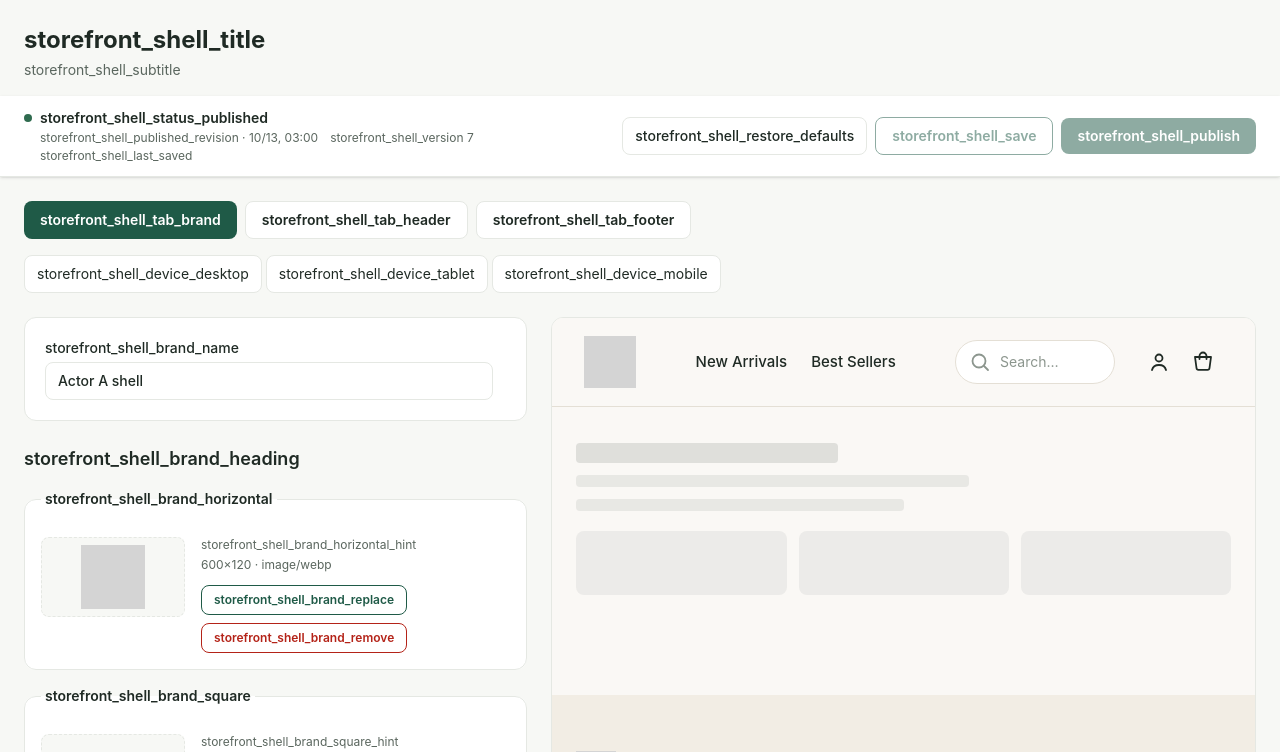
Test: StorefrontShellEditor loading and selection › keeps brand, header and footer fields in separate tab panels
Expected: the element with test id "storefront-shell-publish-bar" is shown, left=0, top=96, right=1279, bottom=177
Expected: the field labelled "storefront_shell_brand_name" is shown, left=45, top=362, right=493, bottom=400
What coordinates should you click on to do the following:
click the button "storefront_shell_tab_header"
I would click on:
 (356, 220)
Its box is left=245, top=201, right=468, bottom=239.
(page scrolled)
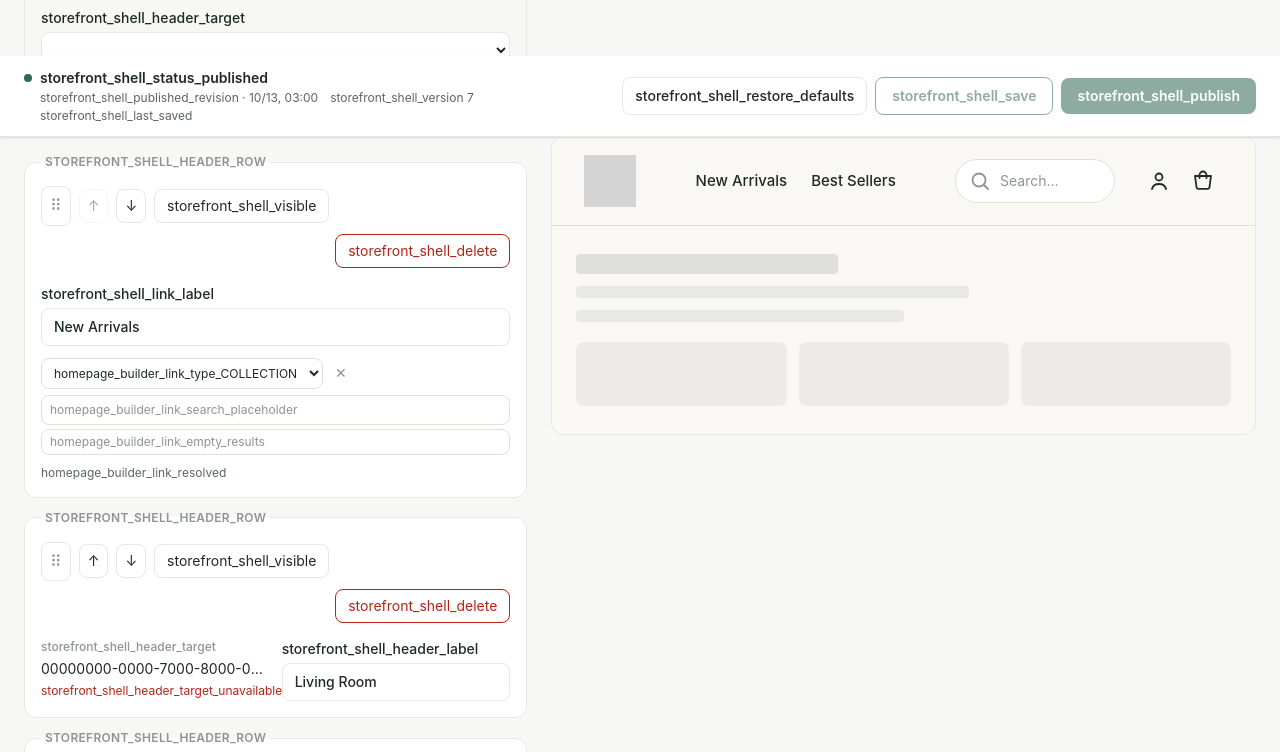
Expected: the label "storefront_shell_brand_name" is gone
